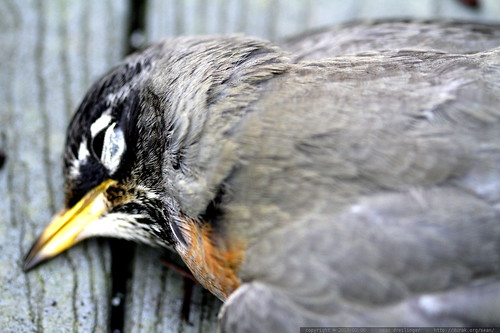animal: (18, 29, 500, 333)
